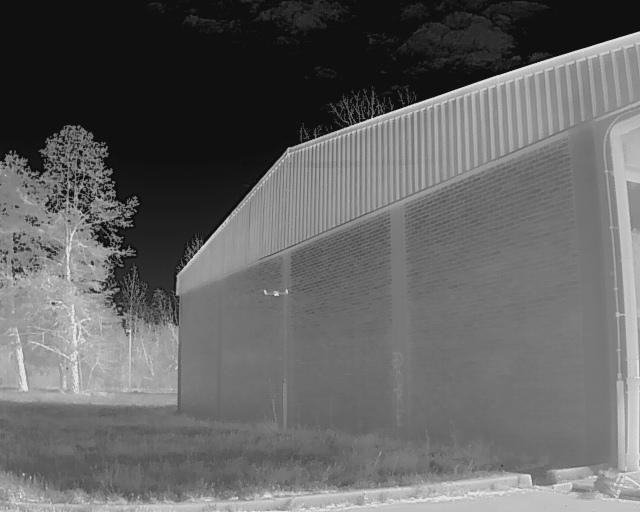drone: (256, 283, 296, 304)
